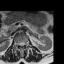CCS_normal: (20, 40, 22, 49)
LFS_normal: (24, 40, 26, 46)
LLS_normal: (22, 40, 24, 47)
RFS_normal: (16, 41, 18, 47)
RLS_normal: (18, 40, 20, 47)
